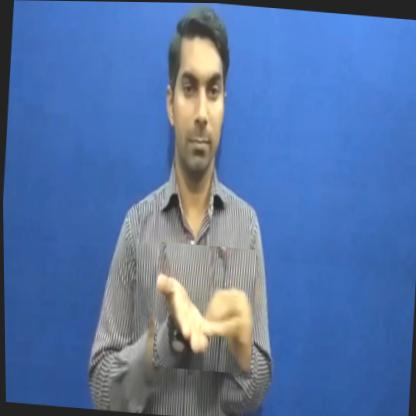ExcuseMe: (150, 241, 257, 374)
